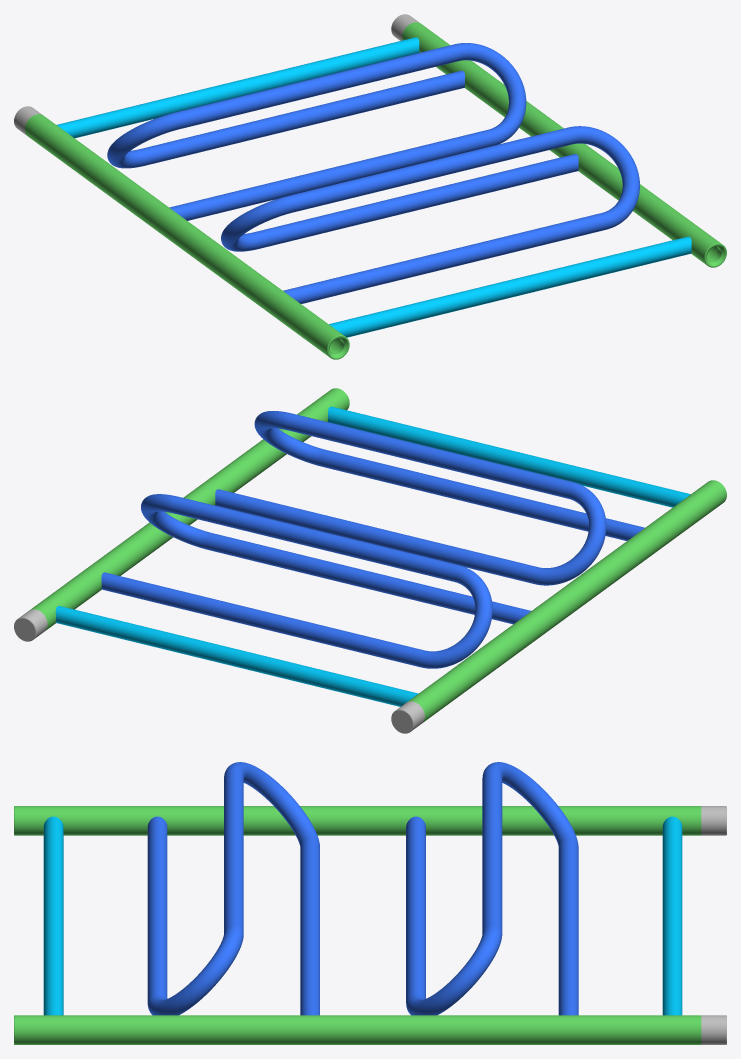
3 renders of one model, top to bottom at view 1: azimuth 30°, elevation 25°; view 2: azimuth 150°, elevation 25°; view 3: azimuth 270°, elevation 25°, orthographic. The views are drawn at different scales.
Parts seen in each view (by area): view 1: Æàñì³í; view 2: Æàñì³í; view 3: Æàñì³í.
Part boxes in pixels (box(x1,y1,x2,y2)): Æàñì³í: box(14, 14, 726, 359); Æàñì³í: box(14, 388, 726, 733); Æàñì³í: box(14, 762, 726, 1044).
Size of the model in its own units: 53 by 10.21 by 72.
